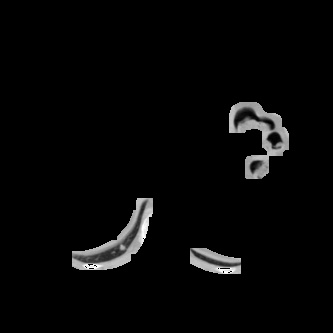PN: (119, 244, 125, 250)
